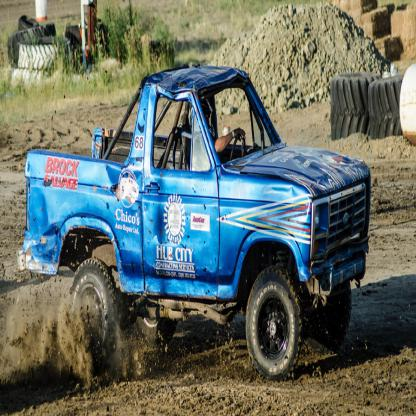Truck: (16, 62, 371, 381)
